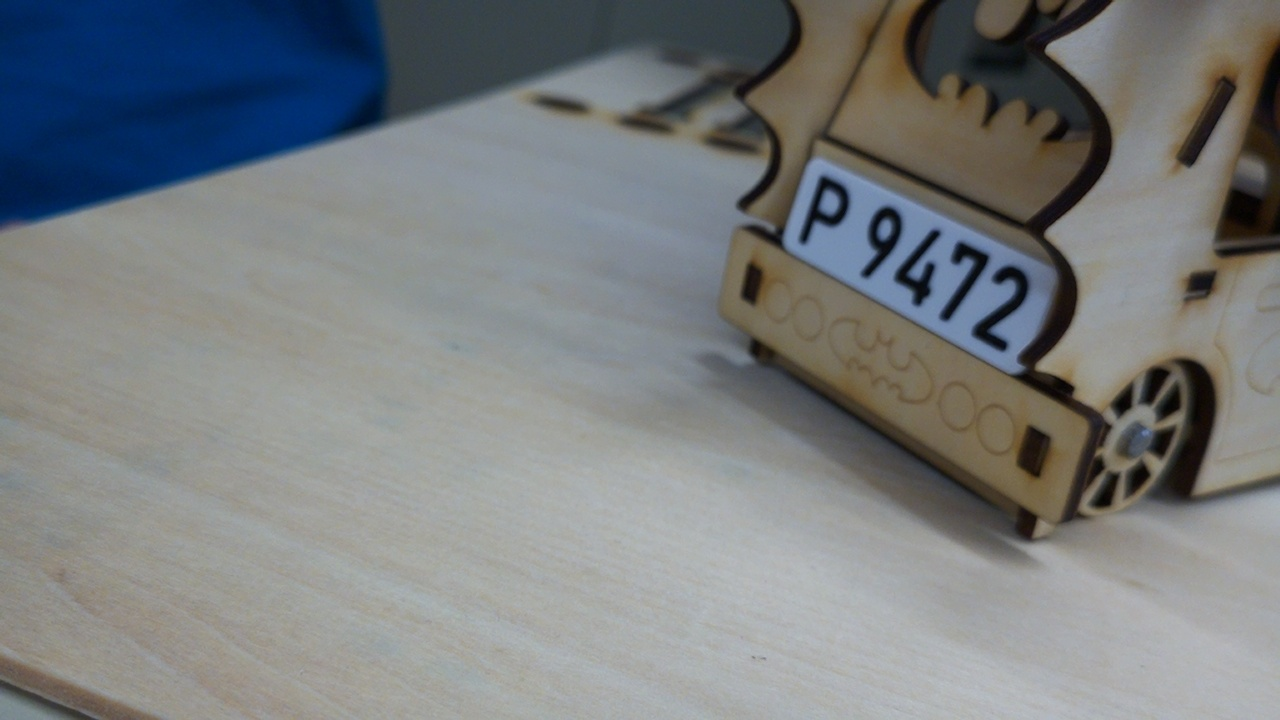license_plate: (780, 155, 1084, 383)
